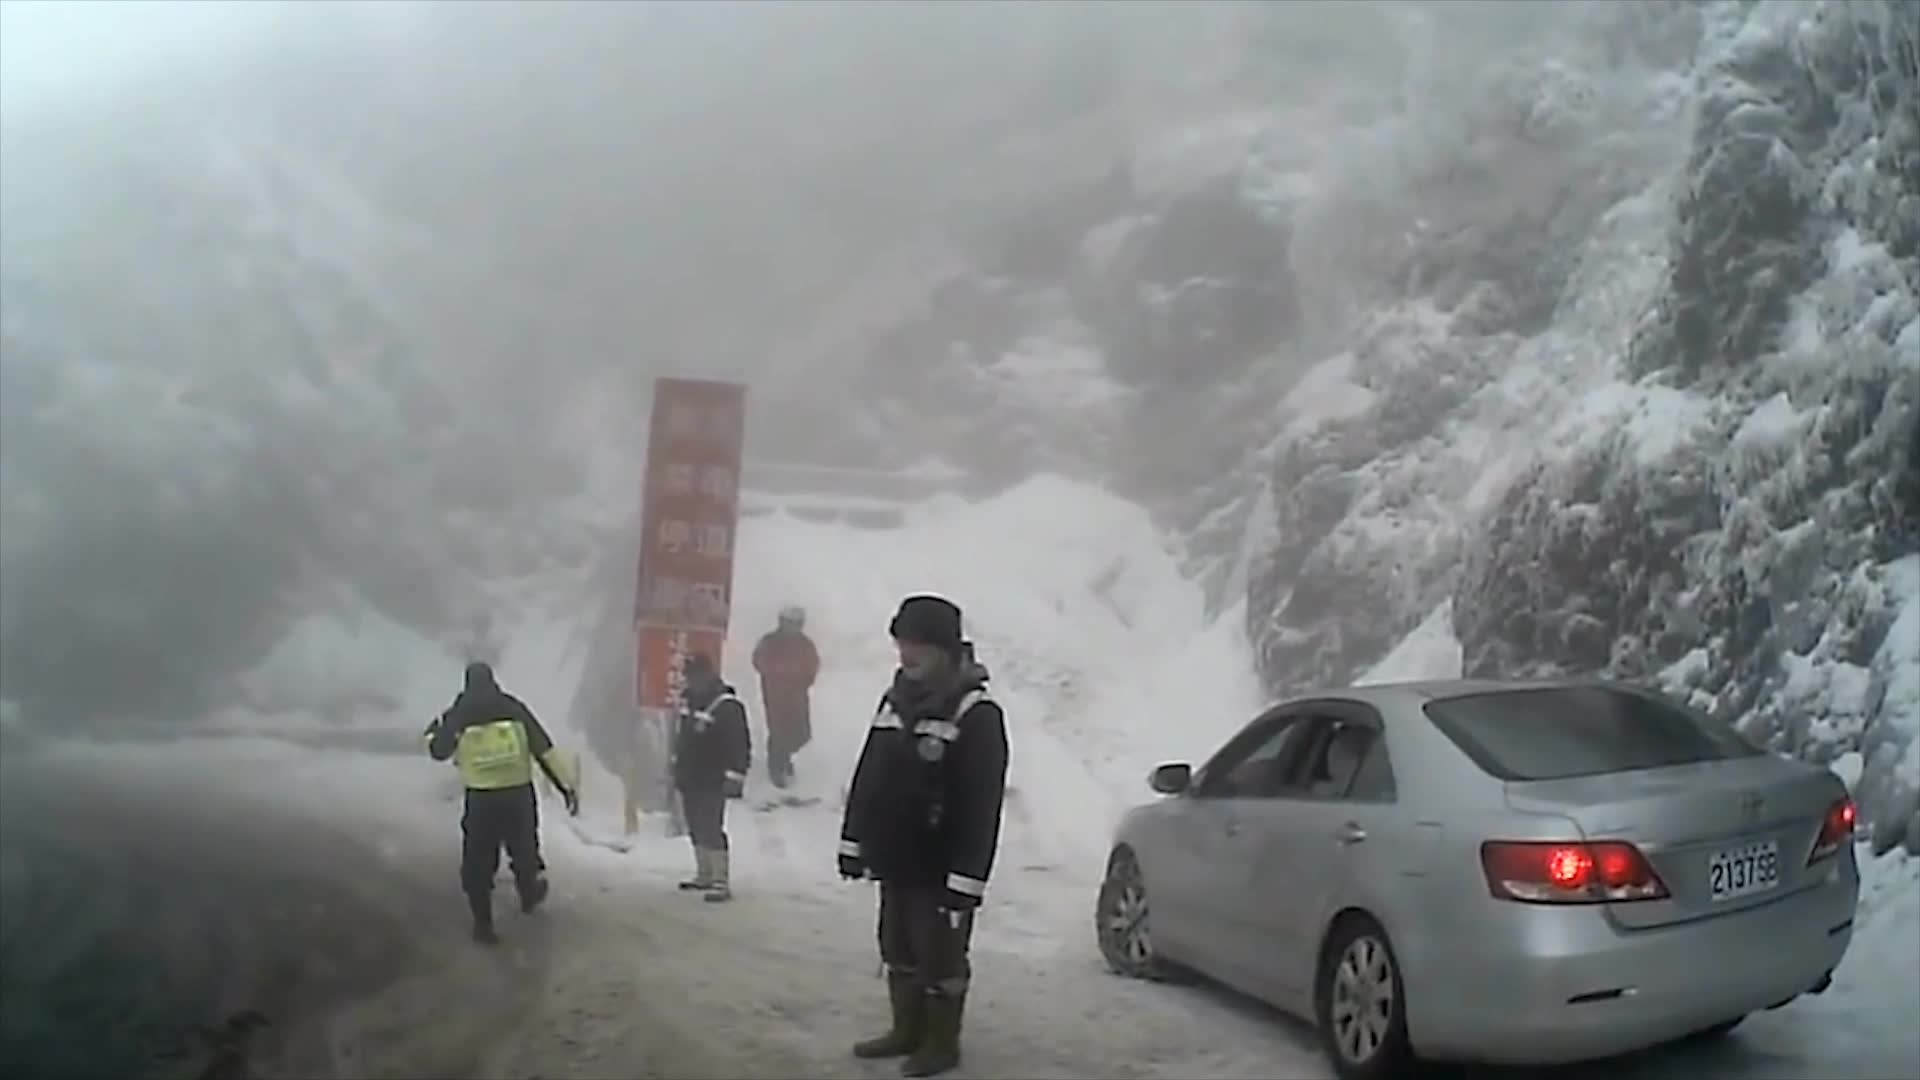pedestrian: (838, 592, 1011, 1078), (424, 663, 591, 945), (670, 651, 754, 903), (757, 600, 823, 786)
vehicle: (1094, 679, 1863, 1080)
